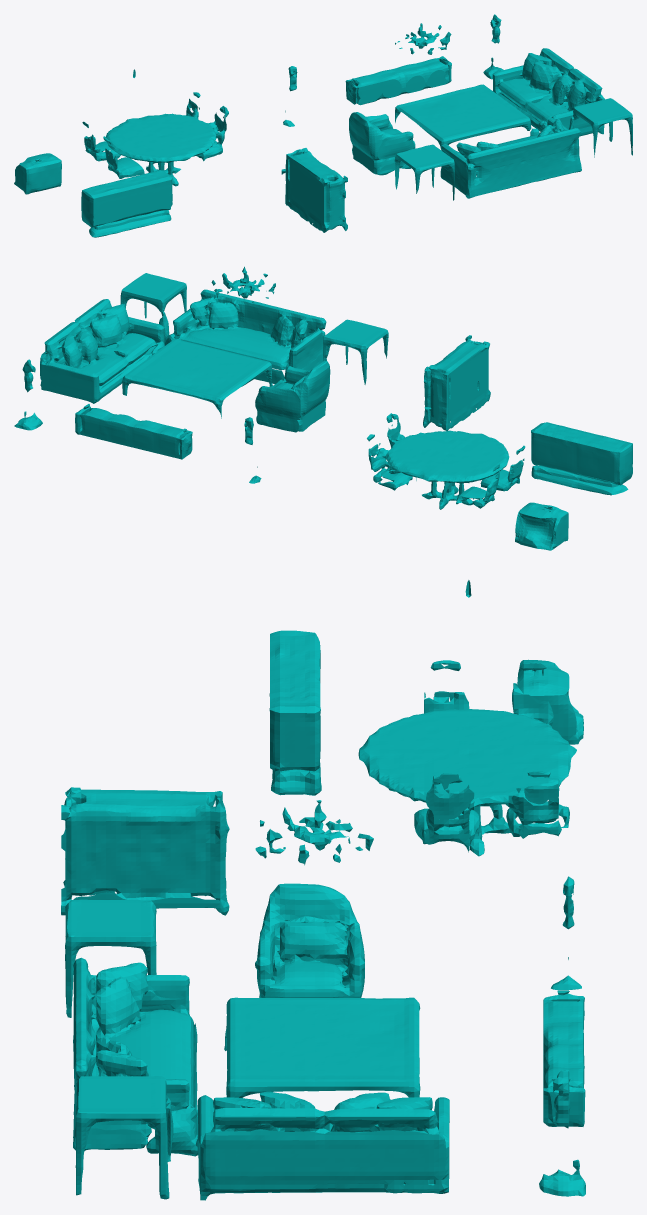
File: occn_42_101_0.glb
3 renders of one model, top to bottom at view 1: azimuth 30°, elevation 25°; view 2: azimuth 150°, elevation 25°; view 3: azimuth 270°, elevation 25°, orthographic. The views are drawn at different scales.
Size of the model in its own units: 9.07 by 2.2 by 4.12.
